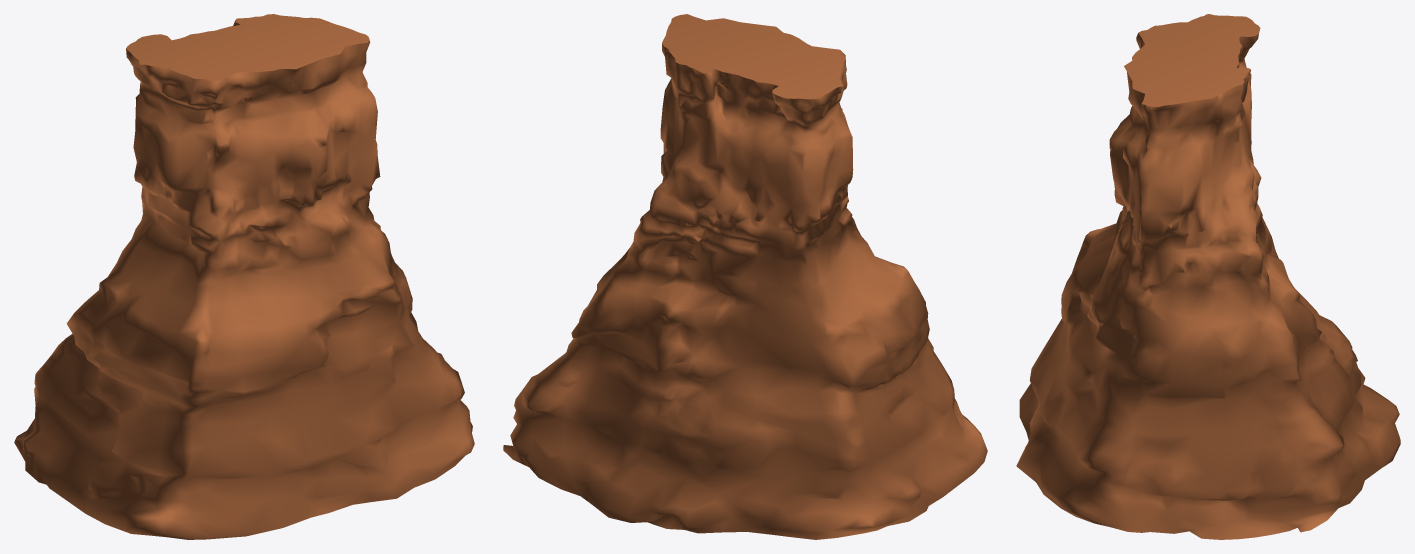
File: MSH_Rocks_Cliff_11_d.FBX
3 views of the same model, side by side, from view 1: azimuth 30°, elevation 25°; view 2: azimuth 150°, elevation 25°; view 3: azimuth 270°, elevation 25° (orthographic). The views are drawn at different scales.
Parts seen in each view (by area): view 1: MESH_LOD0, CAP_LOD0; view 2: MESH_LOD0, CAP_LOD0; view 3: MESH_LOD0, CAP_LOD0.
Boxes of the visible parts, left/top/right/bottom form: MESH_LOD0: left=14, top=21, right=474, bottom=539; CAP_LOD0: left=126, top=14, right=369, bottom=81; MESH_LOD0: left=503, top=44, right=987, bottom=539; CAP_LOD0: left=662, top=14, right=845, bottom=99; MESH_LOD0: left=1016, top=33, right=1400, bottom=539; CAP_LOD0: left=1124, top=14, right=1260, bottom=106.
Size of what is drawn, in the model's own units: 708 by 673 by 610.
